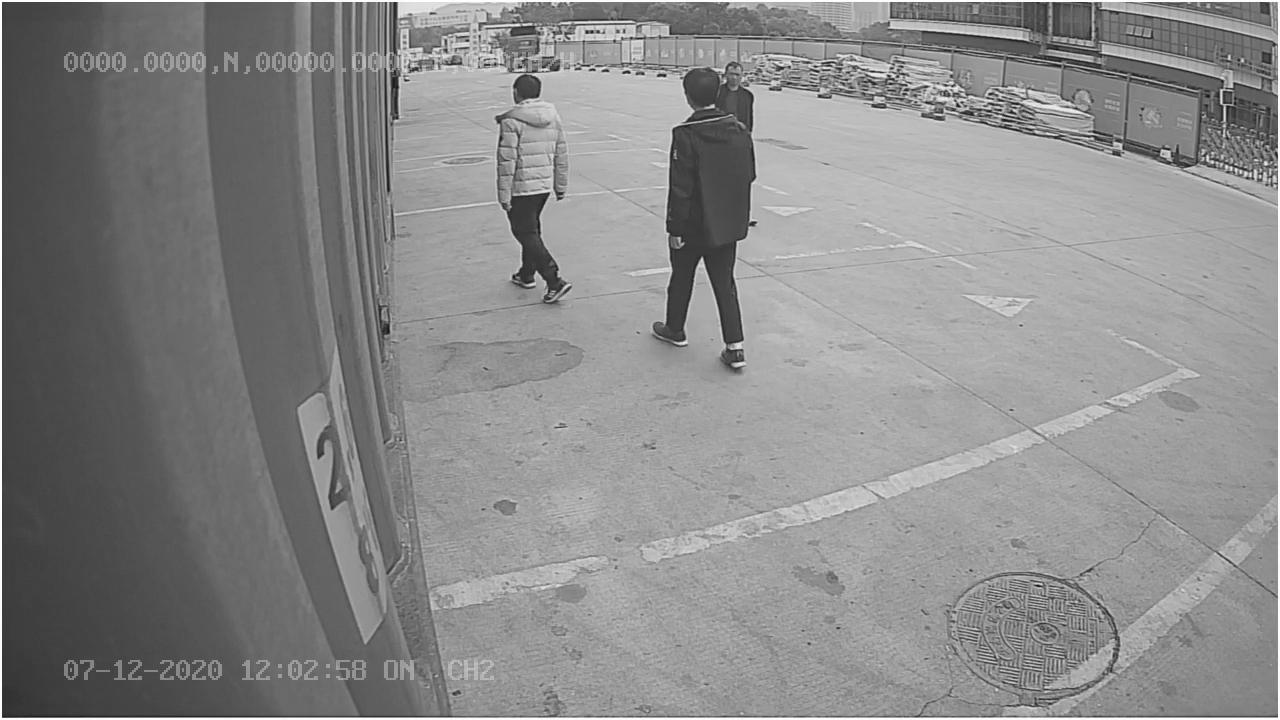person: (489, 73, 577, 306)
